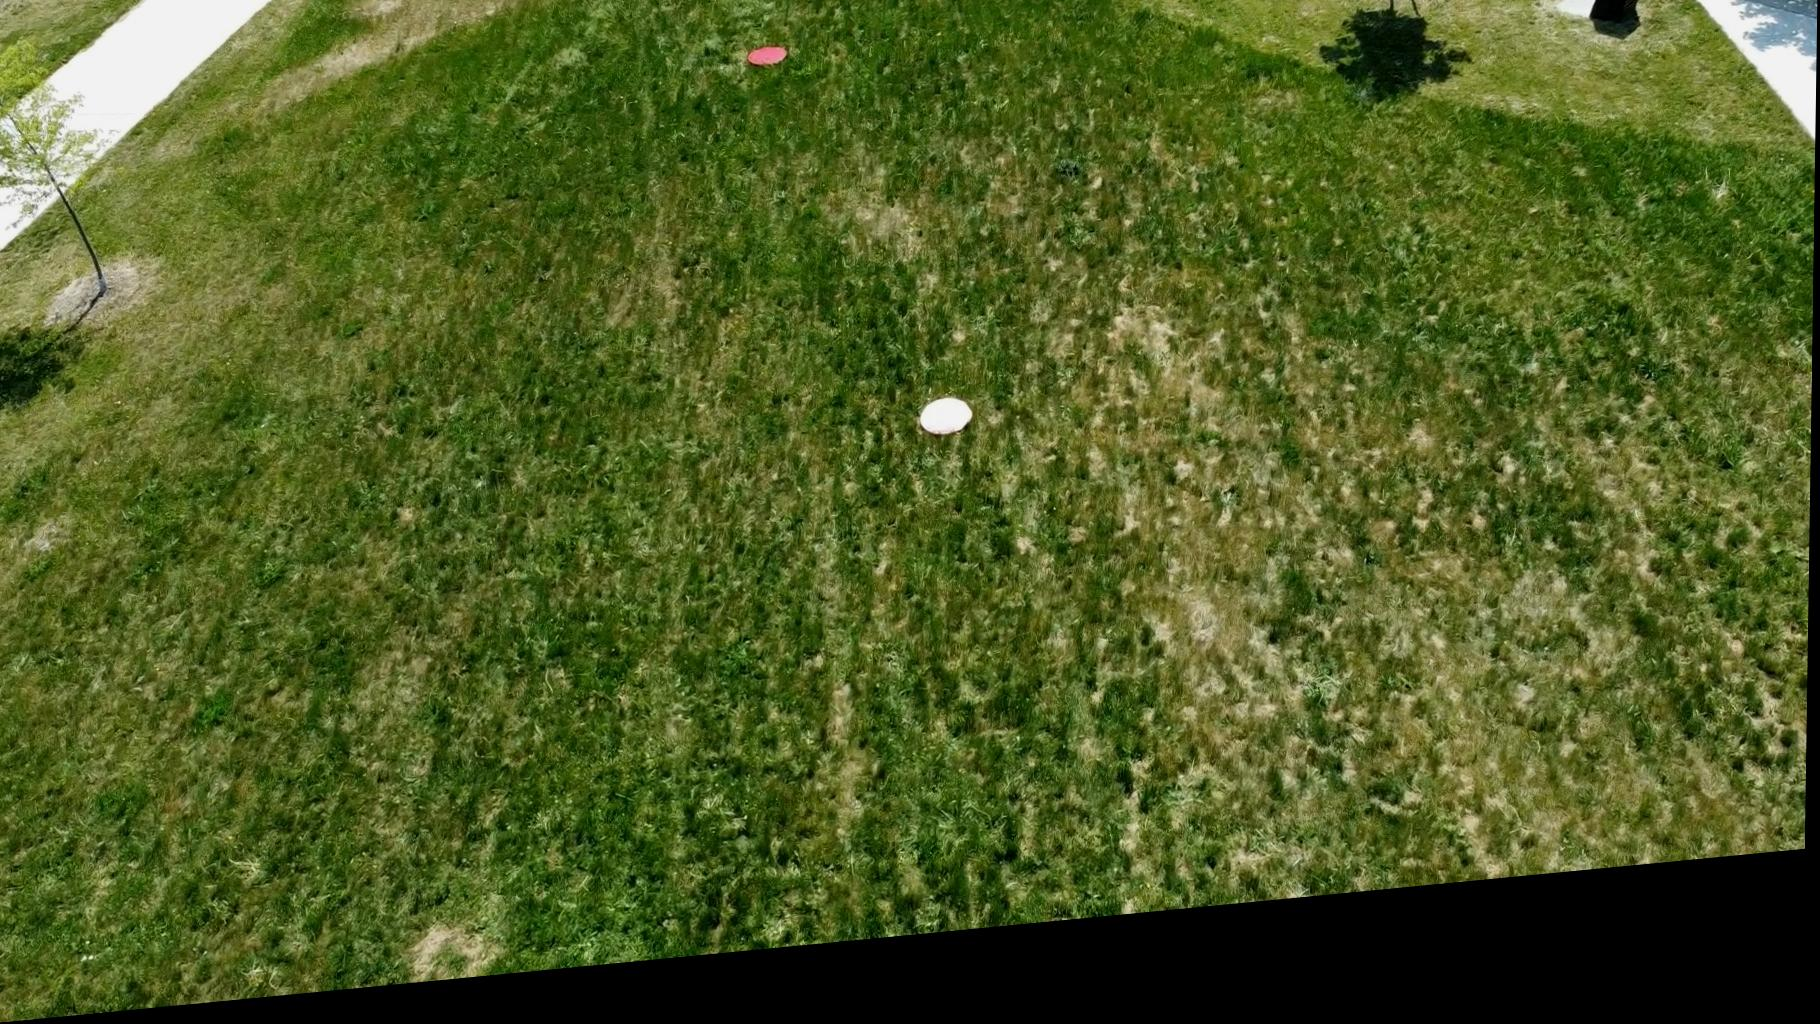Red: (745, 58, 790, 85)
Unknown: (919, 413, 976, 459)
